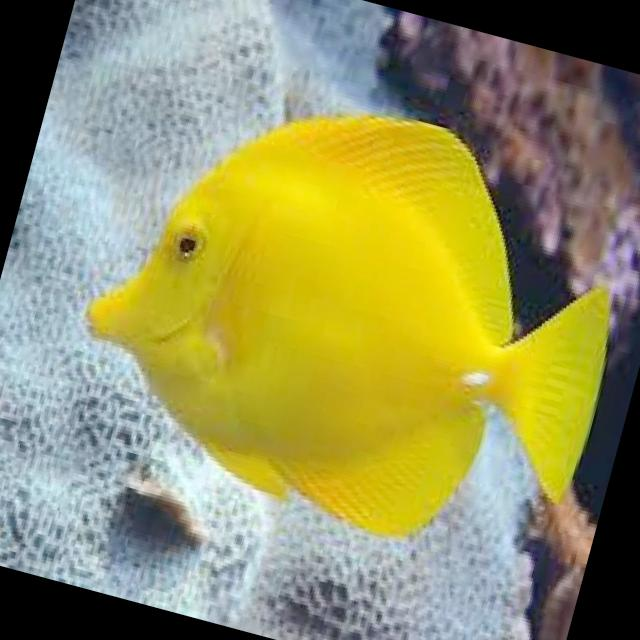TangFish: (45, 41, 640, 574)
